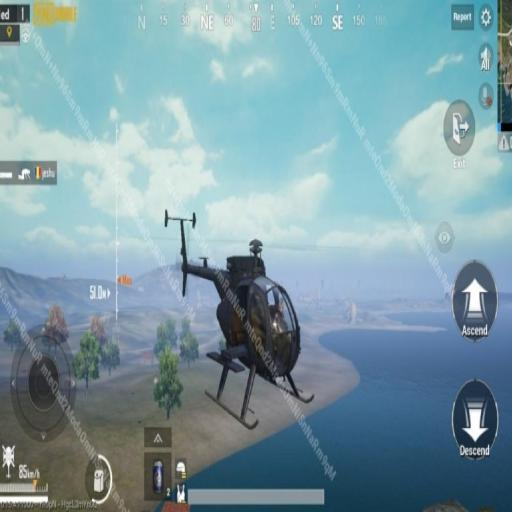helicopter: (165, 209, 332, 435)
